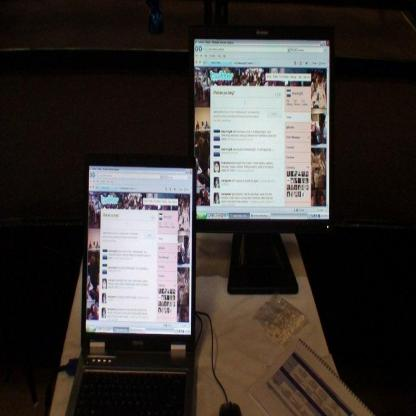board: (66, 150, 194, 412)
